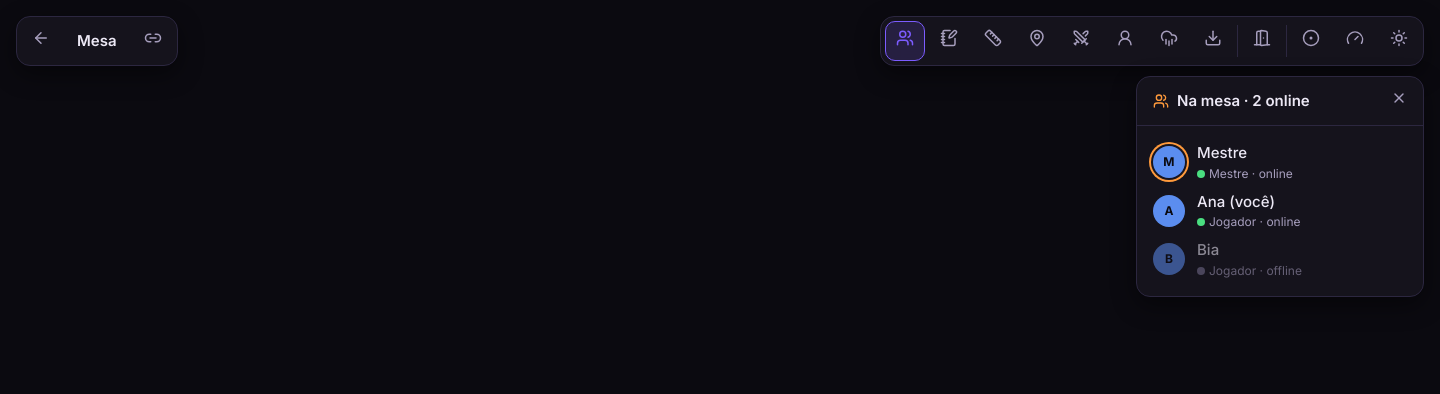
Test: anotações na barra da sala › shouldOpenTheNotesInTheSameCornerAndCloseThePresencePanel
Click the button named "Anotações" at [949, 41], box [929,21,969,61]
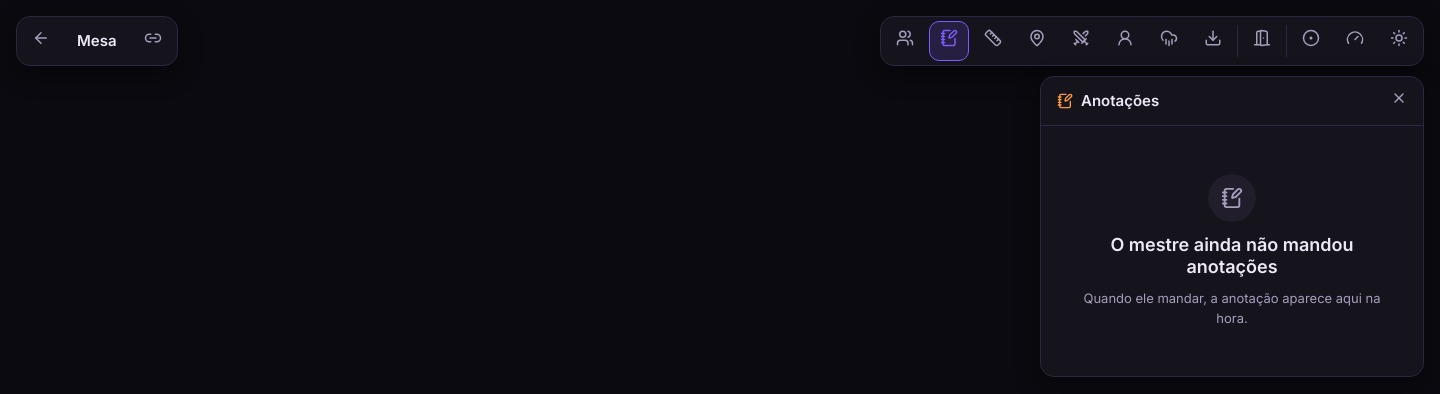
Expected: the element "Anotações" is shown, [1040,76,1424,377]
Expected: the heading "Na mesa" is gone
Expected: the heading "O mestre ainda não mandou anotações" is shown, [1110,234,1354,277]
